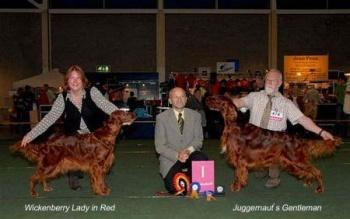Irish_setter: (202, 91, 344, 196), (6, 106, 142, 198)
